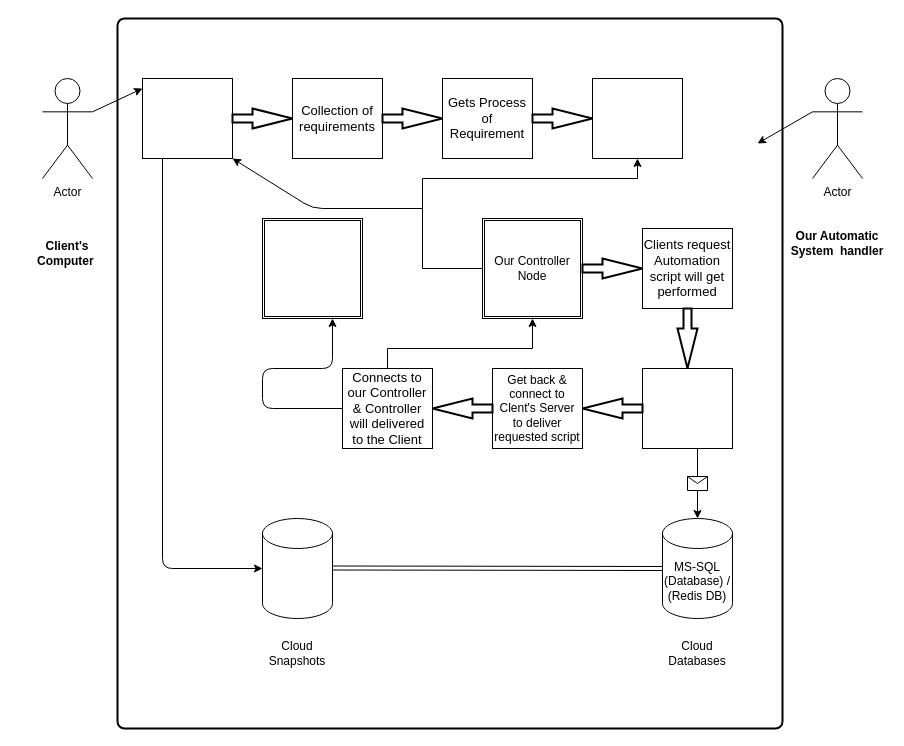
Image size: 904x746. Some labels were removed from this diagram. The shapes that lost their labels are listed below. From the top down, each one's centre as x and y in pixels, then its label:
[187,118]: Client's Automation Request to our Server
[637,118]: Connects our System Server by Node
[312,268]: Our Security Gateways
[687,408]: Required Automation task Output on Client demand
[297,568]: Cloud Storage as(Backup)
